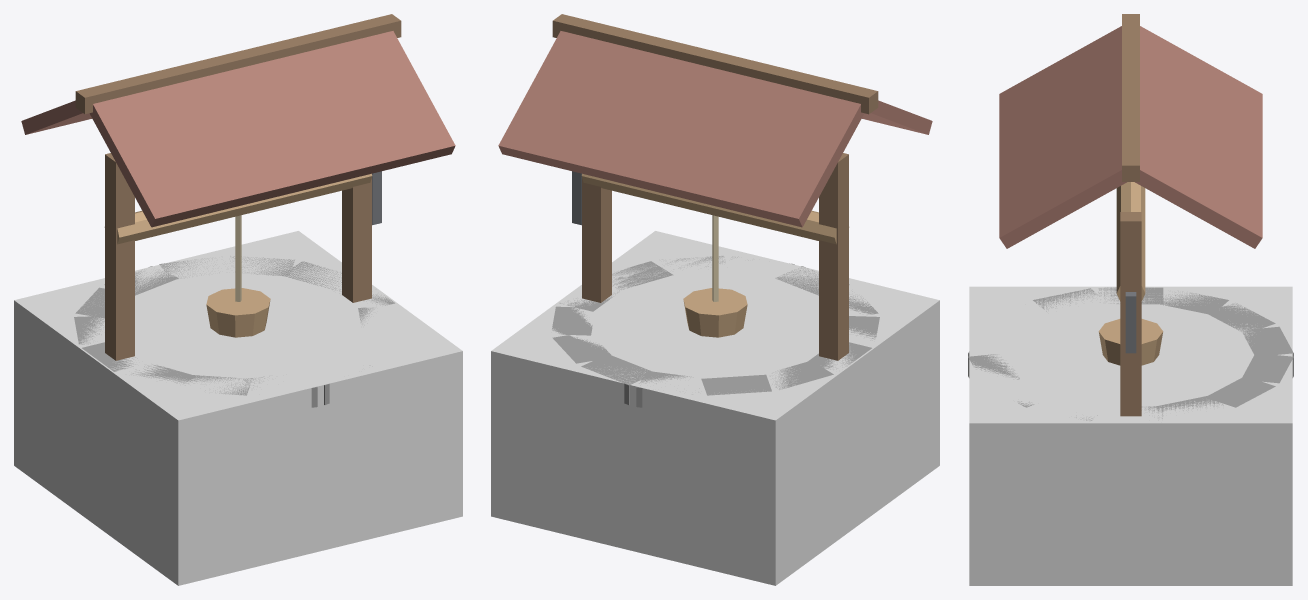
Rendered from Well.fbx.
3 views of the same model, side by side, from view 1: azimuth 30°, elevation 25°; view 2: azimuth 150°, elevation 25°; view 3: azimuth 270°, elevation 25° (orthographic).
Parts seen in each view (by area): view 1: COL_Well, Well_Mesh; view 2: COL_Well, Well_Mesh; view 3: COL_Well, Well_Mesh.
Part boxes in pixels (x1,y1,x2,y2): COL_Well: (14,231,462,585); Well_Mesh: (21,14,455,407); COL_Well: (491,231,939,585); Well_Mesh: (498,14,932,407); COL_Well: (969,286,1292,585); Well_Mesh: (968,14,1293,420).
Bounding box in the file's own units: 2 × 2.63 × 1.82.
